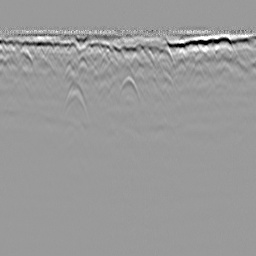cavity: (118, 74, 139, 97)
